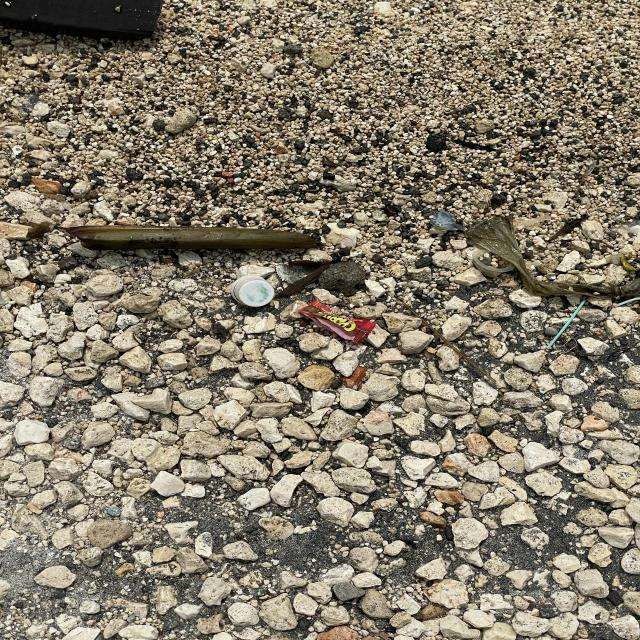plastic_waste: (300, 299, 377, 345), (233, 277, 277, 308)
